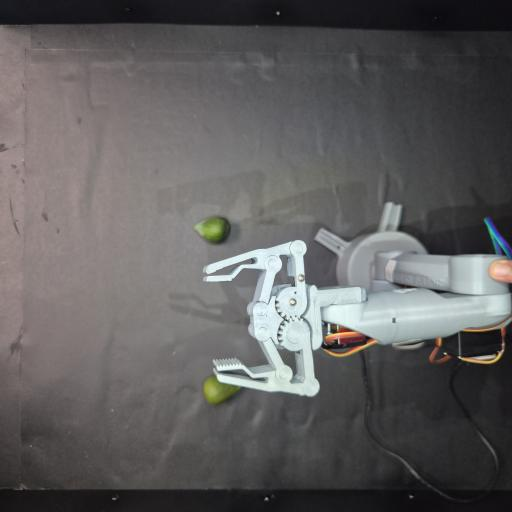higo: (204, 375, 240, 405), (194, 217, 231, 244)
